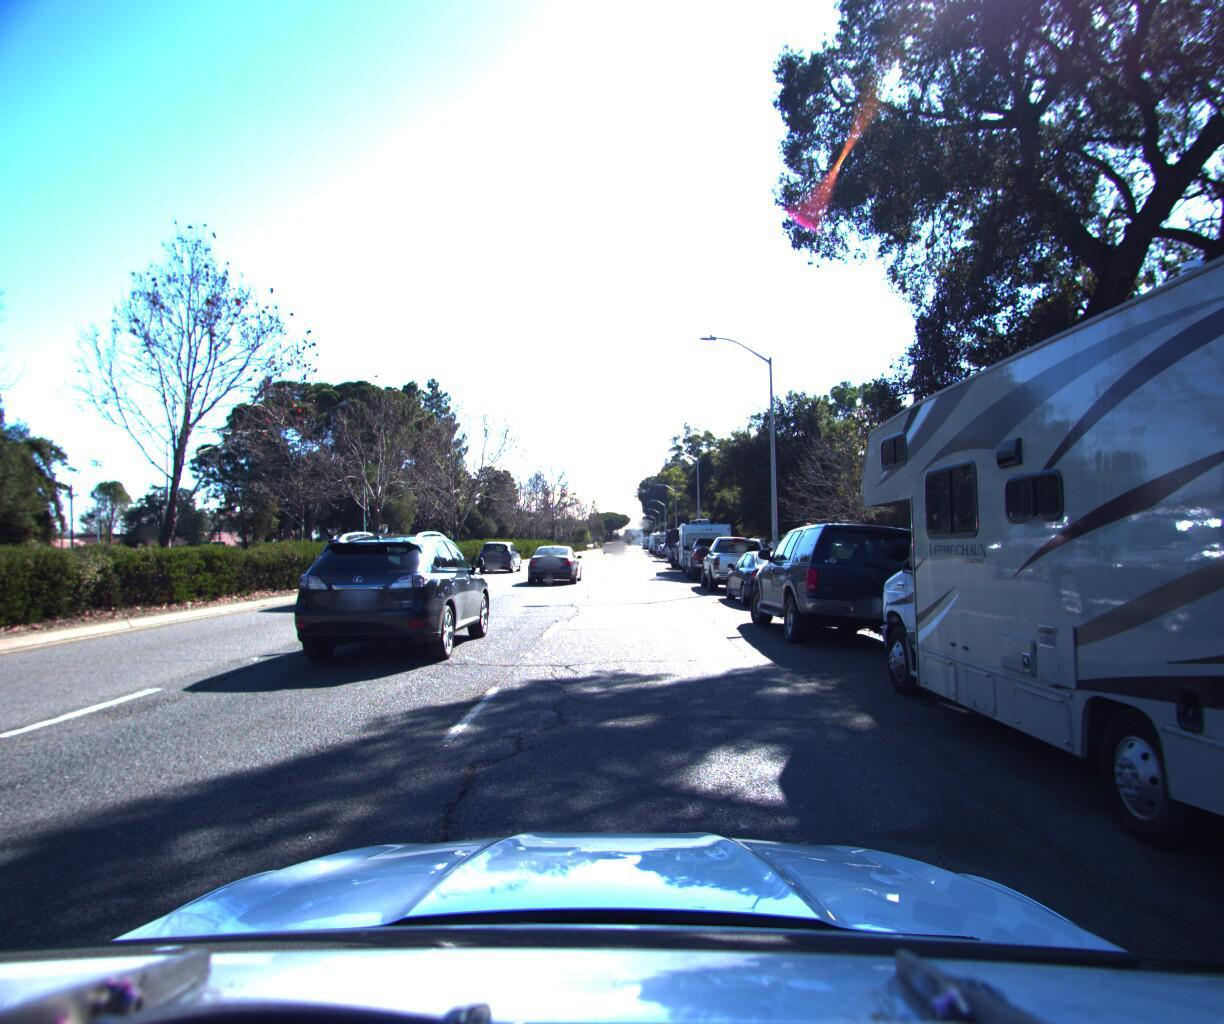car: (737, 506, 957, 659), (285, 523, 500, 671), (324, 527, 440, 604), (719, 540, 825, 609), (693, 529, 789, 592), (678, 530, 750, 579), (528, 538, 587, 579), (476, 531, 527, 570), (667, 530, 716, 567)
other_vehicle: (838, 0, 1224, 1024), (676, 511, 734, 573), (662, 521, 697, 557)
